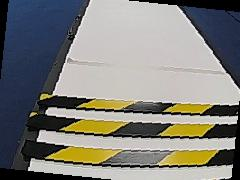bump: (27, 89, 236, 169)
